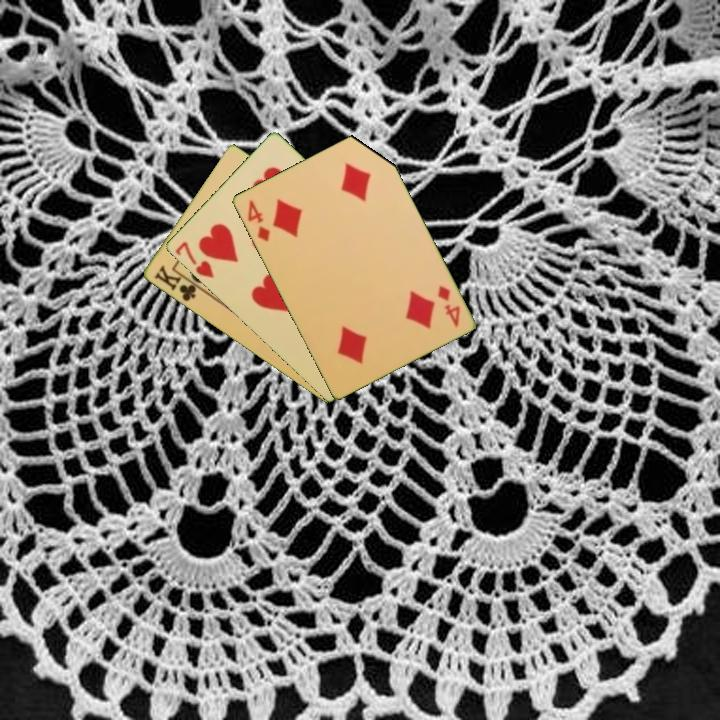4d: (243, 196, 272, 245), (434, 281, 463, 330)
7h: (171, 238, 217, 281)
Kc: (150, 261, 204, 304)
